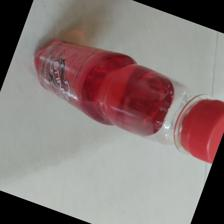Sting: (31, 40, 224, 163)
